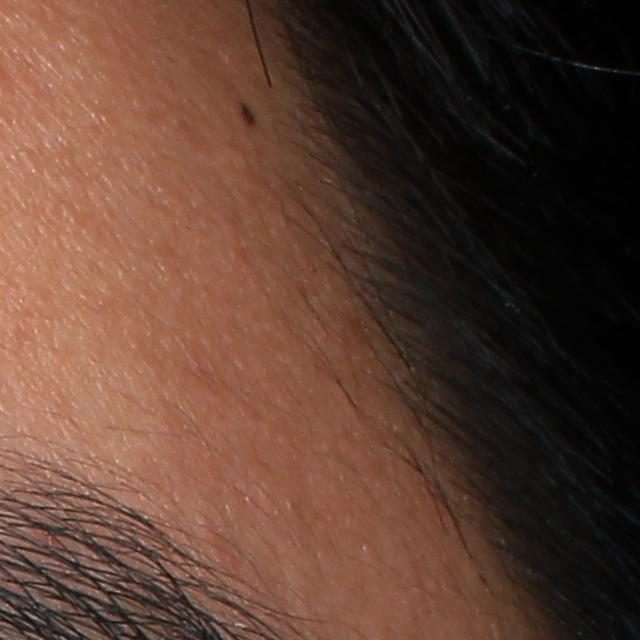nevus: (235, 100, 258, 127)
